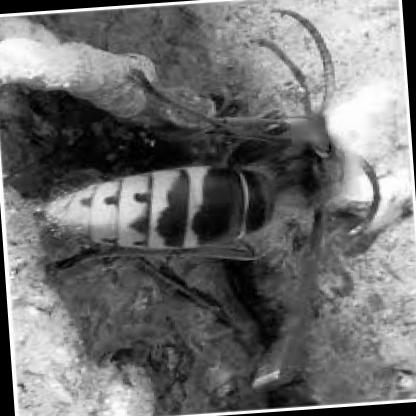european: (17, 5, 387, 402)
